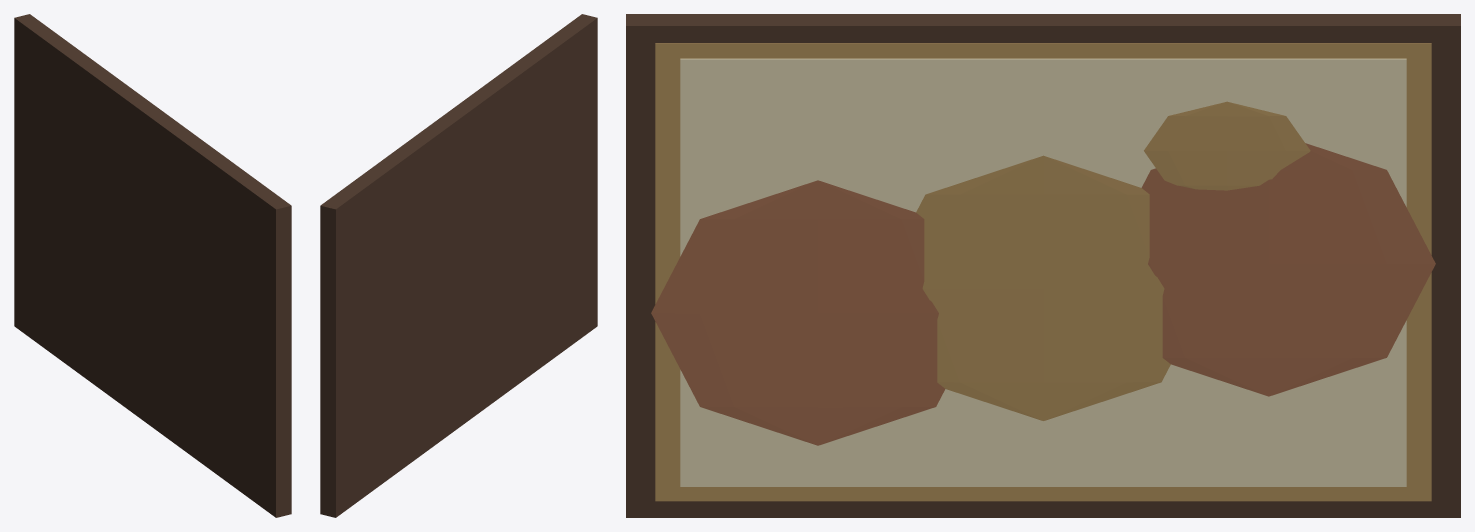
The model's file is LP_Egypt_WallGraphic.fbx.
The picture shows the model from 3 angles, left to right: view 1: azimuth 30°, elevation 25°; view 2: azimuth 150°, elevation 25°; view 3: azimuth 270°, elevation 25°; orthographic projection. The views are drawn at different scales.
Parts seen in each view (by area): view 1: Walnut; view 2: Walnut; view 3: WarmIvory, Terracotta, AgedBrass, Walnut.
Part boxes in pixels (left/top/right/bottom): Walnut: left=14, top=14, right=291, bottom=517; Walnut: left=320, top=14, right=597, bottom=517; WarmIvory: left=680, top=58, right=1406, bottom=486; Terracotta: left=651, top=143, right=1435, bottom=445; AgedBrass: left=655, top=43, right=1431, bottom=501; Walnut: left=626, top=14, right=1460, bottom=517.
Size of the model in its own units: 8 by 130 by 200.
